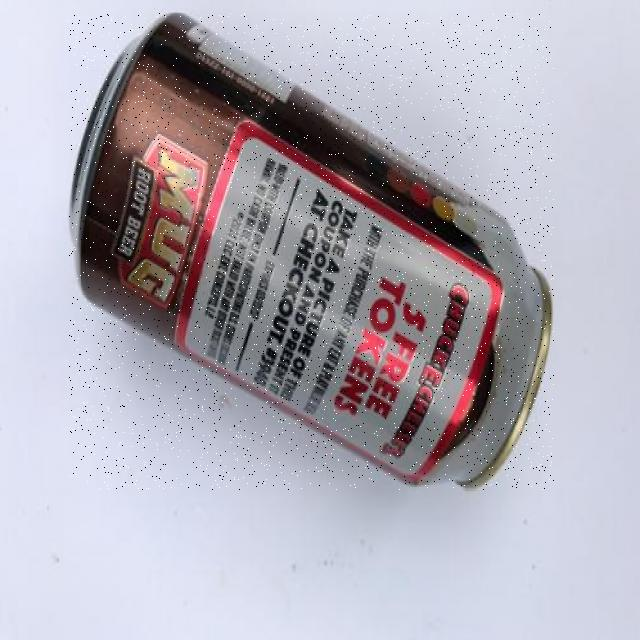metal: (70, 14, 554, 490)
